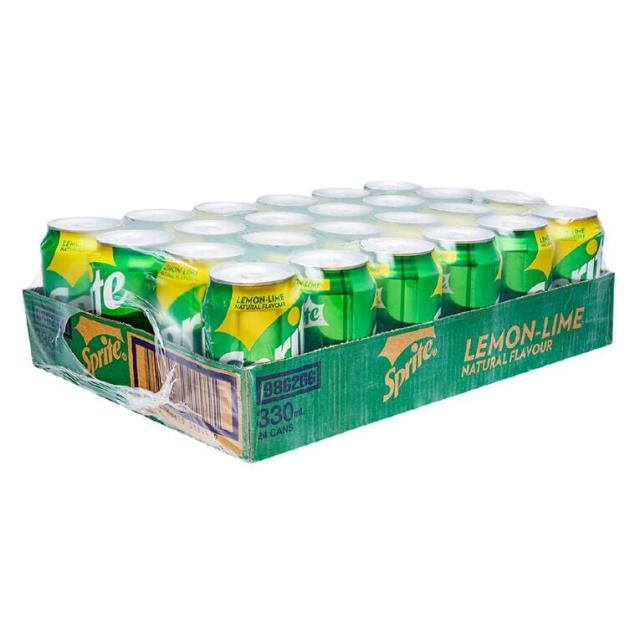sprite: (85, 229, 176, 358), (524, 197, 606, 314), (38, 214, 115, 334), (225, 272, 307, 379), (163, 247, 220, 359)
